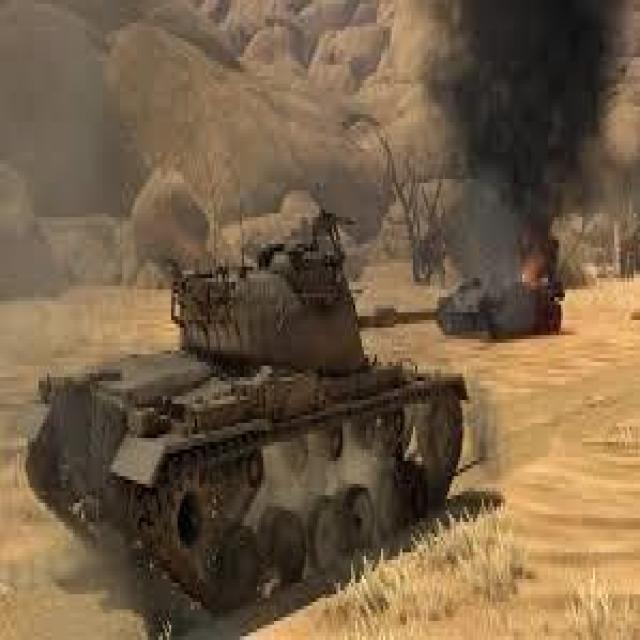MIL_MBT: (32, 244, 484, 598)
